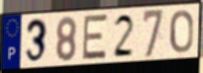2: (111, 13, 137, 57)
3: (24, 16, 50, 66)
7: (142, 7, 166, 60)
8: (55, 15, 78, 63)
E: (81, 13, 110, 62)
O: (169, 9, 194, 55)
